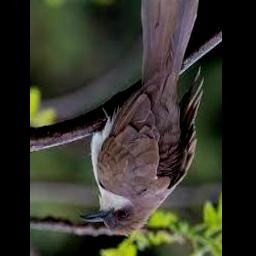Cuckoo: (80, 0, 205, 236)
